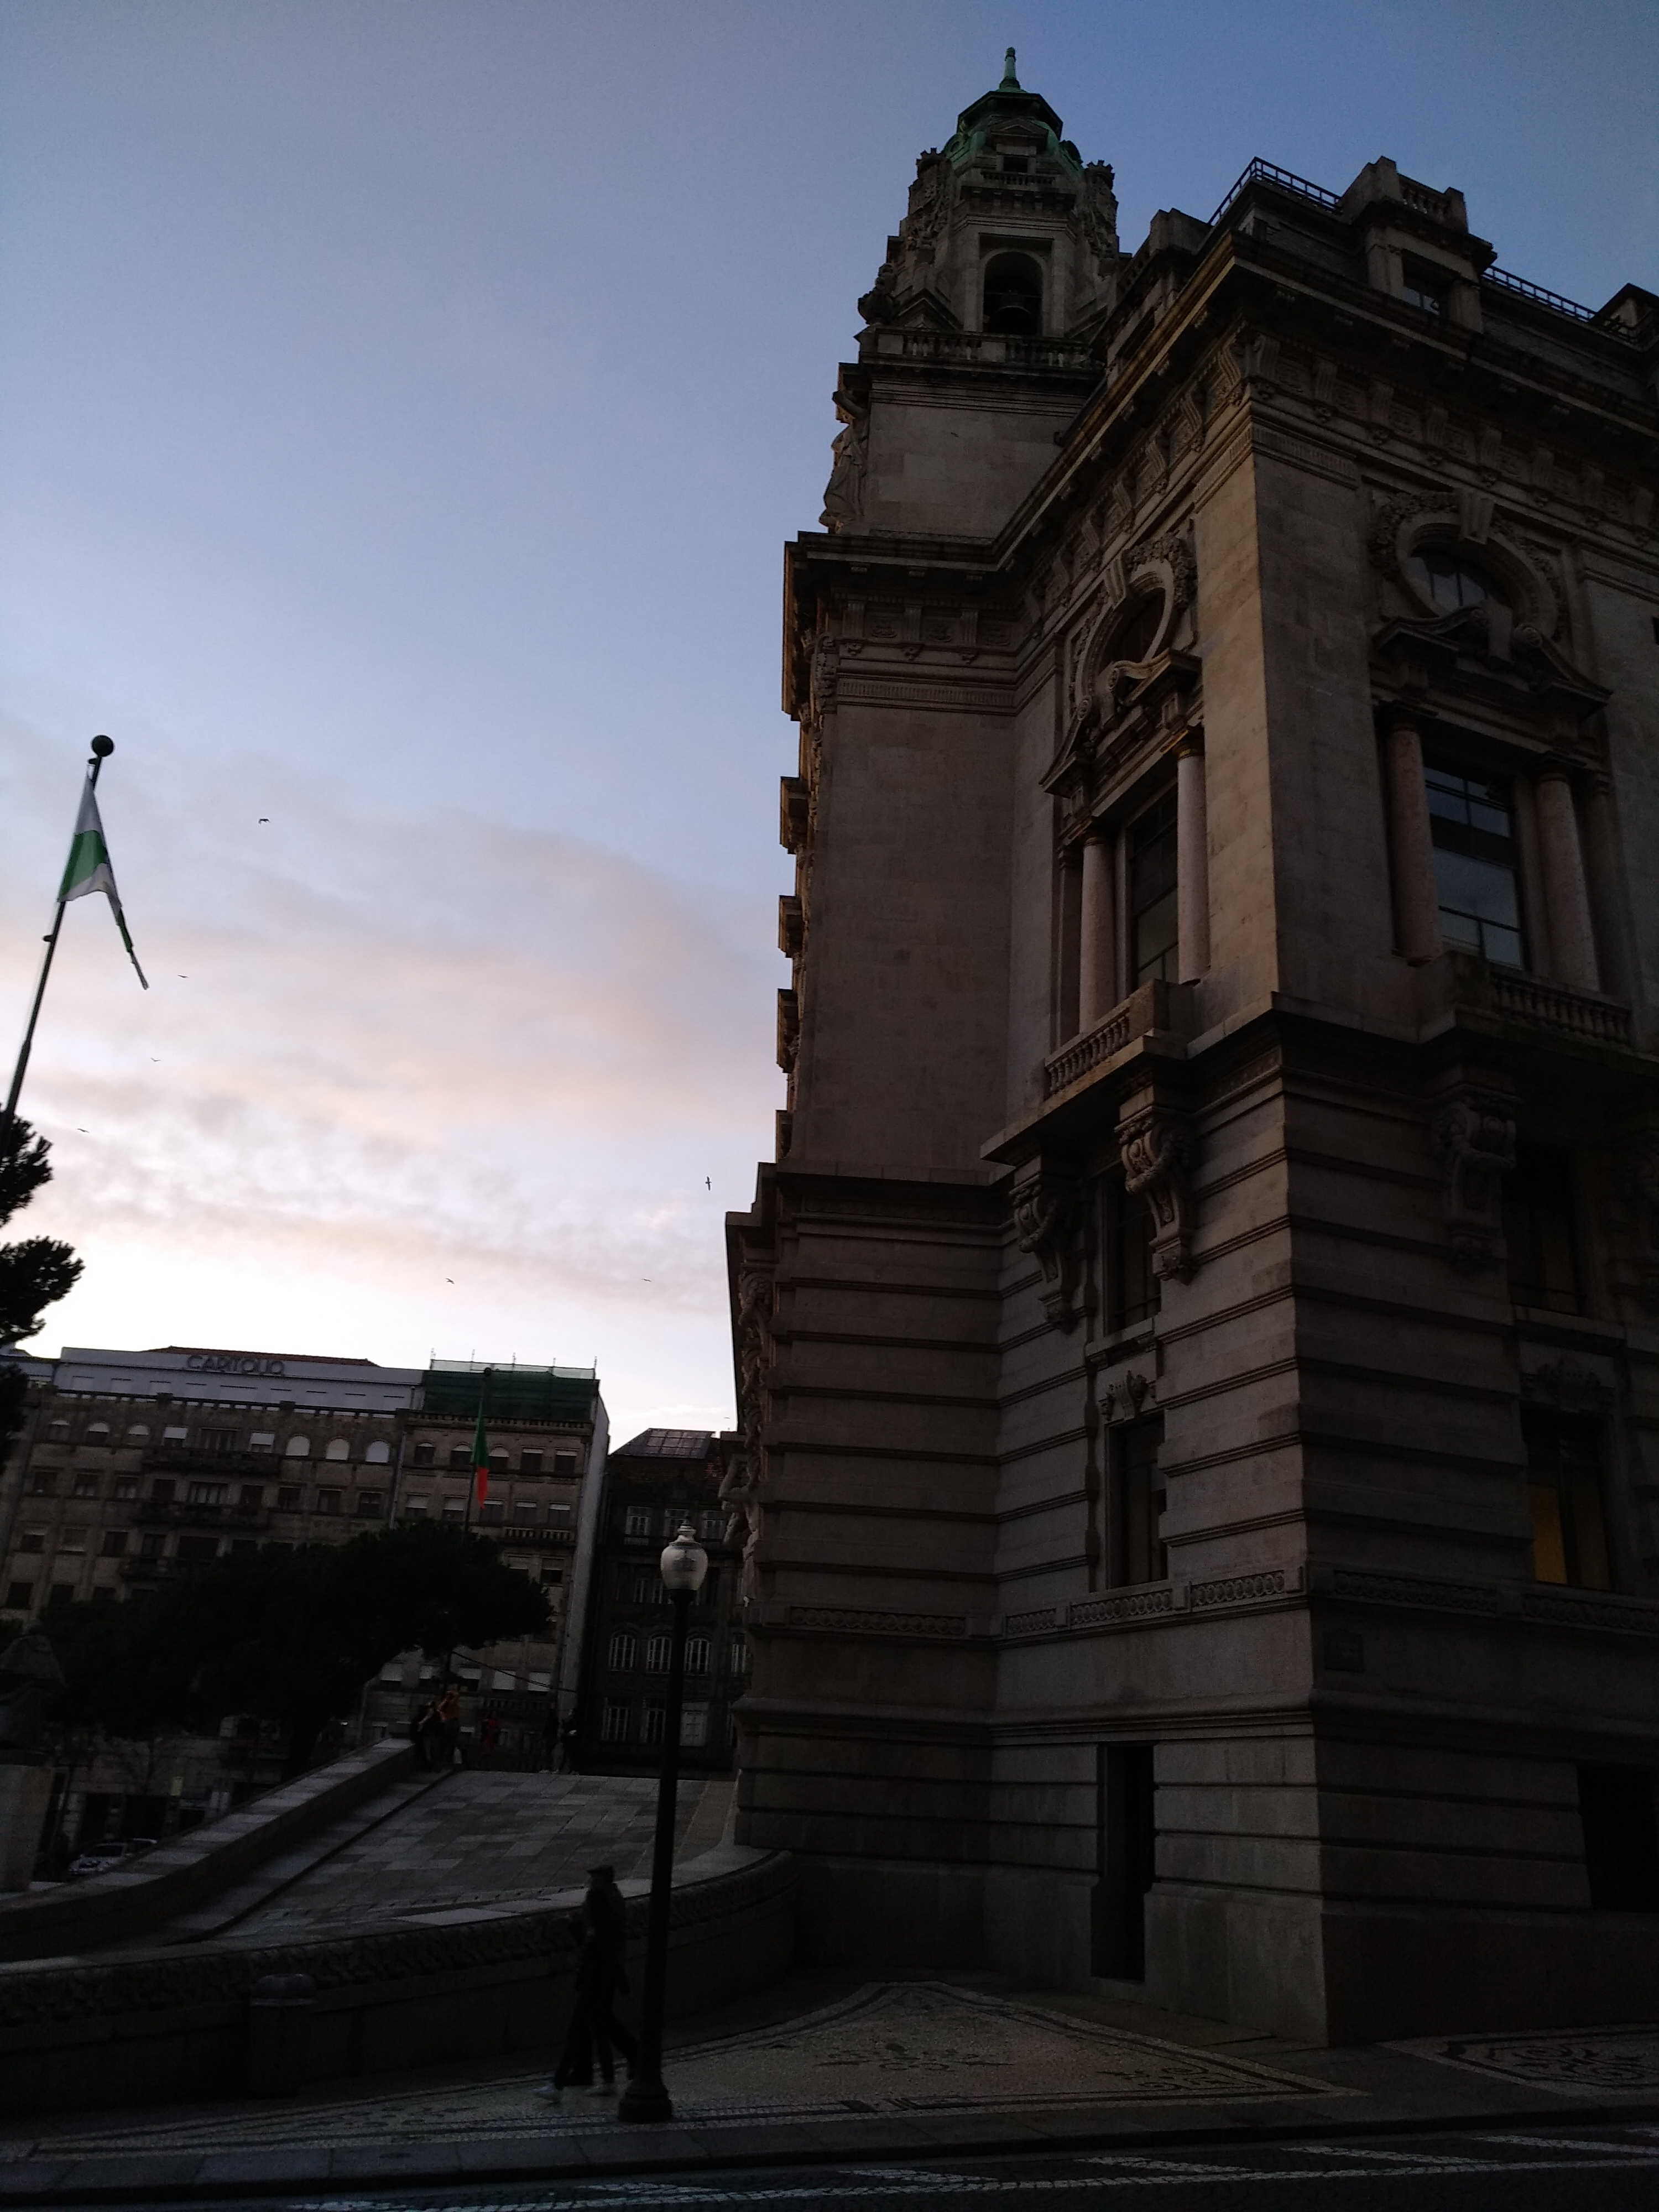camara: (721, 38, 1659, 1972)
